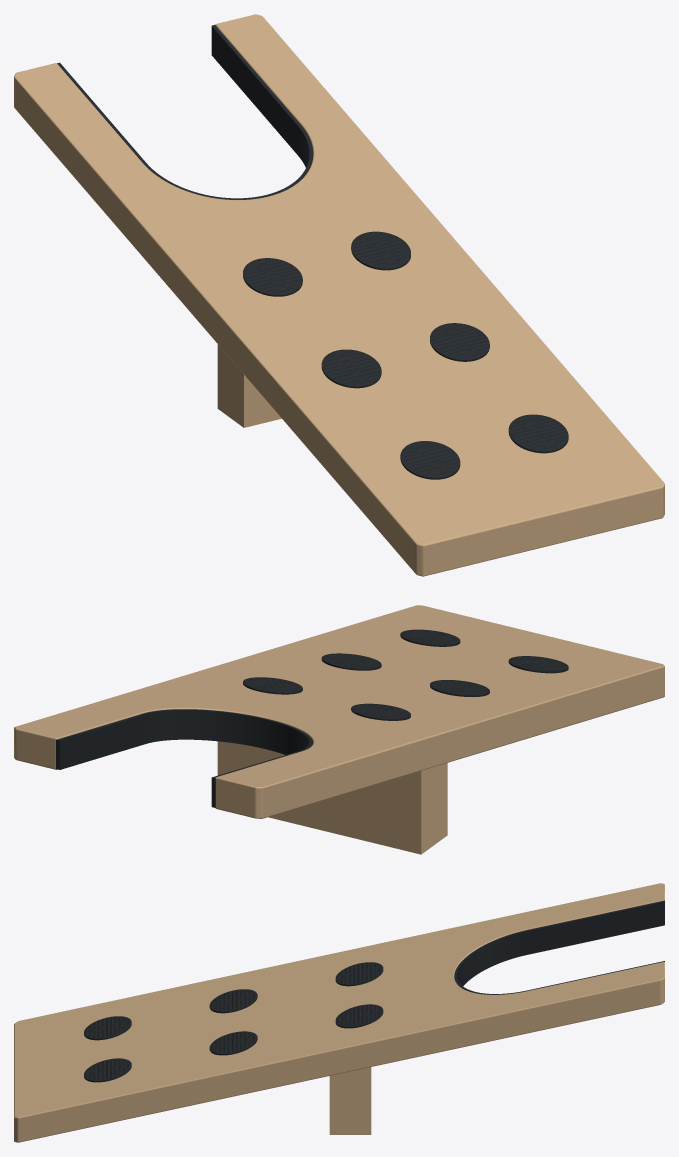
3 renders of one model, top to bottom at view 1: azimuth 30°, elevation 25°; view 2: azimuth 150°, elevation 25°; view 3: azimuth 270°, elevation 25°, orthographic. The views are drawn at different scales.
Parts seen in each view (by area): view 1: Inclined_solid_wood_board_with_open_heel_fork, Backed_U_shaped_rubber_heel_liner, Transverse_wood_support_seated_under_board, Circular_rubber_tread_pad_2_1, Circular_rubber_tread_pad_1_2, Circular_rubber_tread_pad_3_2, Circular_rubber_tread_pad_1_1, Circular_rubber_tread_pad_3_1, Circular_rubber_tread_pad_2_2; view 2: Inclined_solid_wood_board_with_open_heel_fork, Transverse_wood_support_seated_under_board, Backed_U_shaped_rubber_heel_liner, Circular_rubber_tread_pad_2_2, Circular_rubber_tread_pad_1_2, Circular_rubber_tread_pad_1_1, Circular_rubber_tread_pad_3_2, Circular_rubber_tread_pad_3_1, Circular_rubber_tread_pad_2_1; view 3: Inclined_solid_wood_board_with_open_heel_fork, Backed_U_shaped_rubber_heel_liner, Transverse_wood_support_seated_under_board, Circular_rubber_tread_pad_2_2, Circular_rubber_tread_pad_3_2, Circular_rubber_tread_pad_1_2, Circular_rubber_tread_pad_2_1, Circular_rubber_tread_pad_1_1, Circular_rubber_tread_pad_3_1.
Part boxes in pixels (x1=…): Inclined_solid_wood_board_with_open_heel_fork: x1=14, y1=14, x2=664, y2=576; Backed_U_shaped_rubber_heel_liner: x1=57, y1=25, x2=313, y2=199; Transverse_wood_support_seated_under_board: x1=217, y1=344, x2=281, y2=427; Circular_rubber_tread_pad_2_1: x1=321, y1=349, x2=381, y2=388; Circular_rubber_tread_pad_1_2: x1=508, y1=414, x2=568, y2=453; Circular_rubber_tread_pad_3_2: x1=351, y1=231, x2=410, y2=270; Circular_rubber_tread_pad_1_1: x1=400, y1=441, x2=460, y2=479; Circular_rubber_tread_pad_3_1: x1=243, y1=258, x2=302, y2=296; Circular_rubber_tread_pad_2_2: x1=430, y1=323, x2=489, y2=361; Inclined_solid_wood_board_with_open_heel_fork: x1=14, y1=605, x2=664, y2=818; Transverse_wood_support_seated_under_board: x1=217, y1=741, x2=447, y2=854; Backed_U_shaped_rubber_heel_liner: x1=56, y1=709, x2=313, y2=807; Circular_rubber_tread_pad_2_2: x1=321, y1=653, x2=381, y2=670; Circular_rubber_tread_pad_1_2: x1=400, y1=629, x2=460, y2=646; Circular_rubber_tread_pad_1_1: x1=508, y1=656, x2=568, y2=673; Circular_rubber_tread_pad_3_2: x1=243, y1=677, x2=302, y2=694; Circular_rubber_tread_pad_3_1: x1=351, y1=703, x2=410, y2=720; Circular_rubber_tread_pad_2_1: x1=430, y1=680, x2=489, y2=696; Inclined_solid_wood_board_with_open_heel_fork: x1=14, y1=883, x2=664, y2=1142; Backed_U_shaped_rubber_heel_liner: x1=454, y1=900, x2=664, y2=994; Transverse_wood_support_seated_under_board: x1=329, y1=1067, x2=371, y2=1134; Circular_rubber_tread_pad_2_2: x1=209, y1=1031, x2=257, y2=1055; Circular_rubber_tread_pad_3_2: x1=335, y1=1004, x2=383, y2=1028; Circular_rubber_tread_pad_1_2: x1=84, y1=1058, x2=131, y2=1082; Circular_rubber_tread_pad_2_1: x1=209, y1=989, x2=257, y2=1013; Circular_rubber_tread_pad_1_1: x1=84, y1=1016, x2=131, y2=1040; Circular_rubber_tread_pad_3_1: x1=335, y1=962, x2=383, y2=986.
Bounding box in the file's own units: 0.115 × 0.091 × 0.326.
